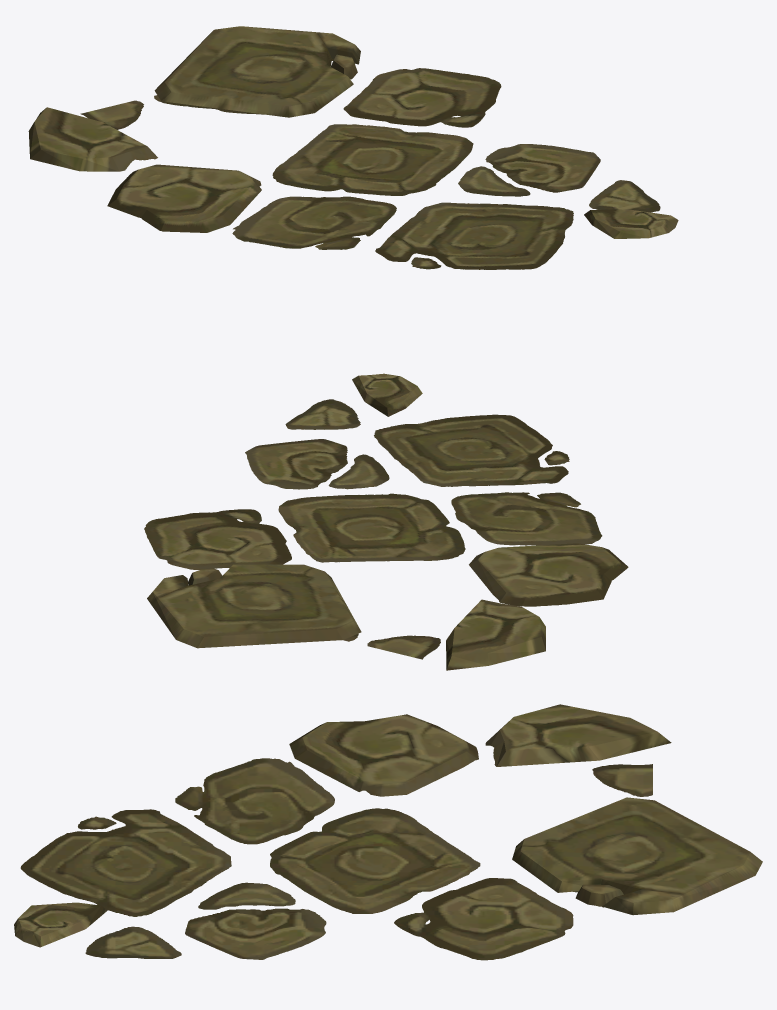
The model's file is pavers_t_01.fbx.
3 renders of one model, top to bottom at view 1: azimuth 30°, elevation 25°; view 2: azimuth 150°, elevation 25°; view 3: azimuth 270°, elevation 25°, orthographic. The views are drawn at different scales.
Parts seen in each view (by area): view 1: obj0.119; view 2: obj0.119; view 3: obj0.119.
Part boxes in pixels (x1,y1,x2,y2): obj0.119: [28, 26, 678, 269]; obj0.119: [144, 373, 628, 670]; obj0.119: [14, 704, 762, 960].
Size of the model in its own units: 5.22 by 0.1288 by 5.88.
